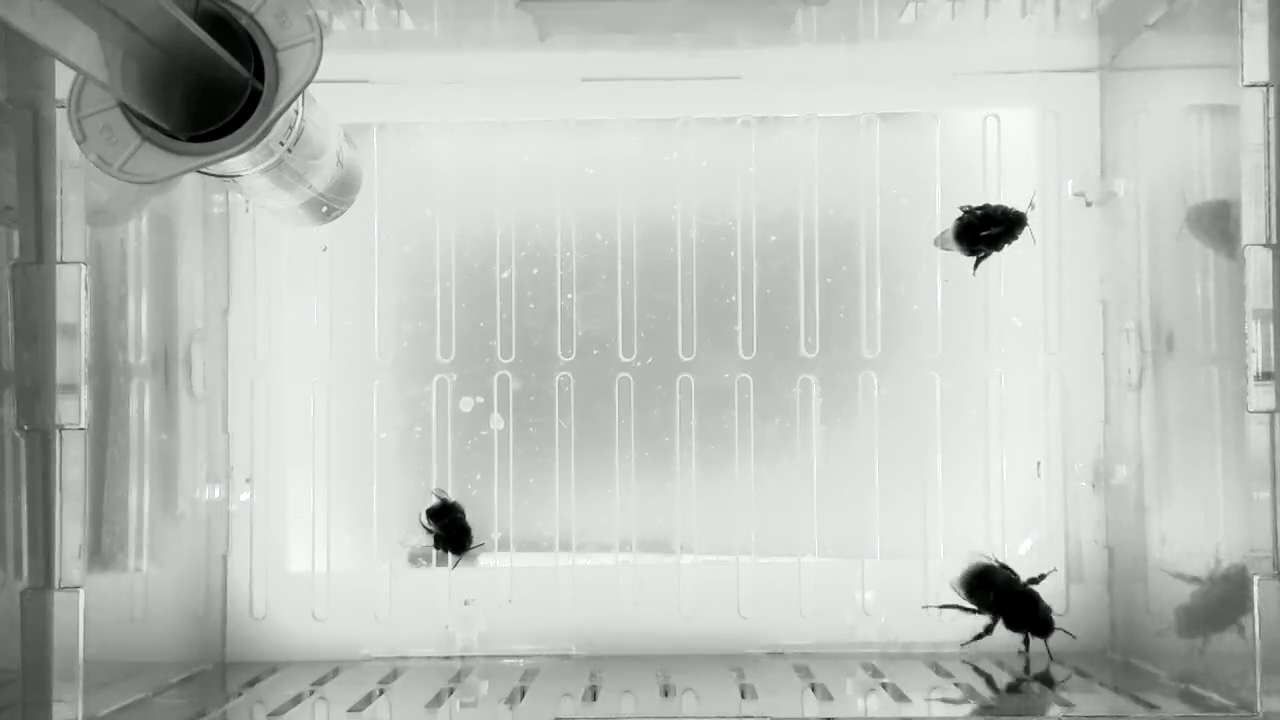bee: (917, 546, 1079, 666), (925, 186, 1043, 281), (413, 485, 488, 575)
feeder: (218, 90, 366, 230)
